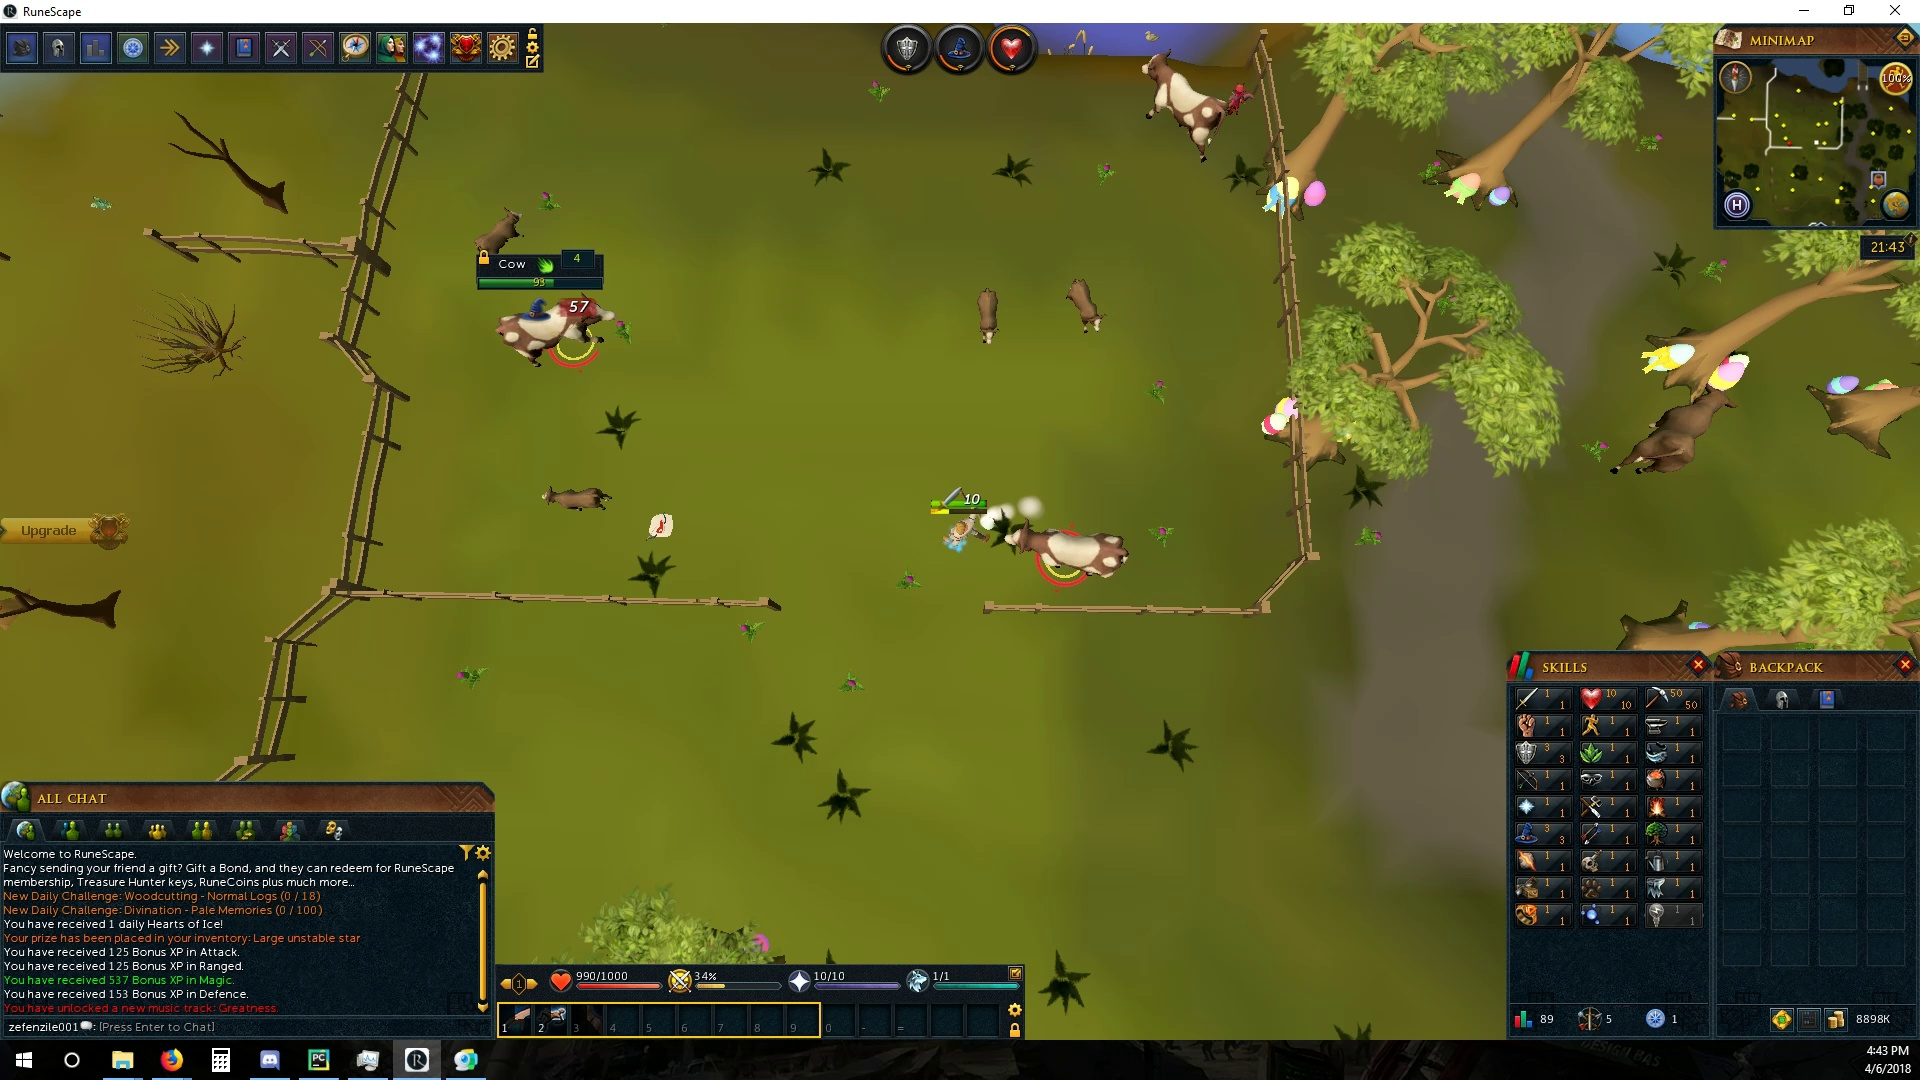calf: (469, 204, 526, 253), (1063, 274, 1106, 338), (537, 487, 618, 516), (971, 286, 1002, 347)
cow: (1604, 380, 1741, 487), (1133, 44, 1226, 167), (491, 294, 622, 371), (992, 516, 1133, 587)
cow_drop: (645, 512, 676, 541)
